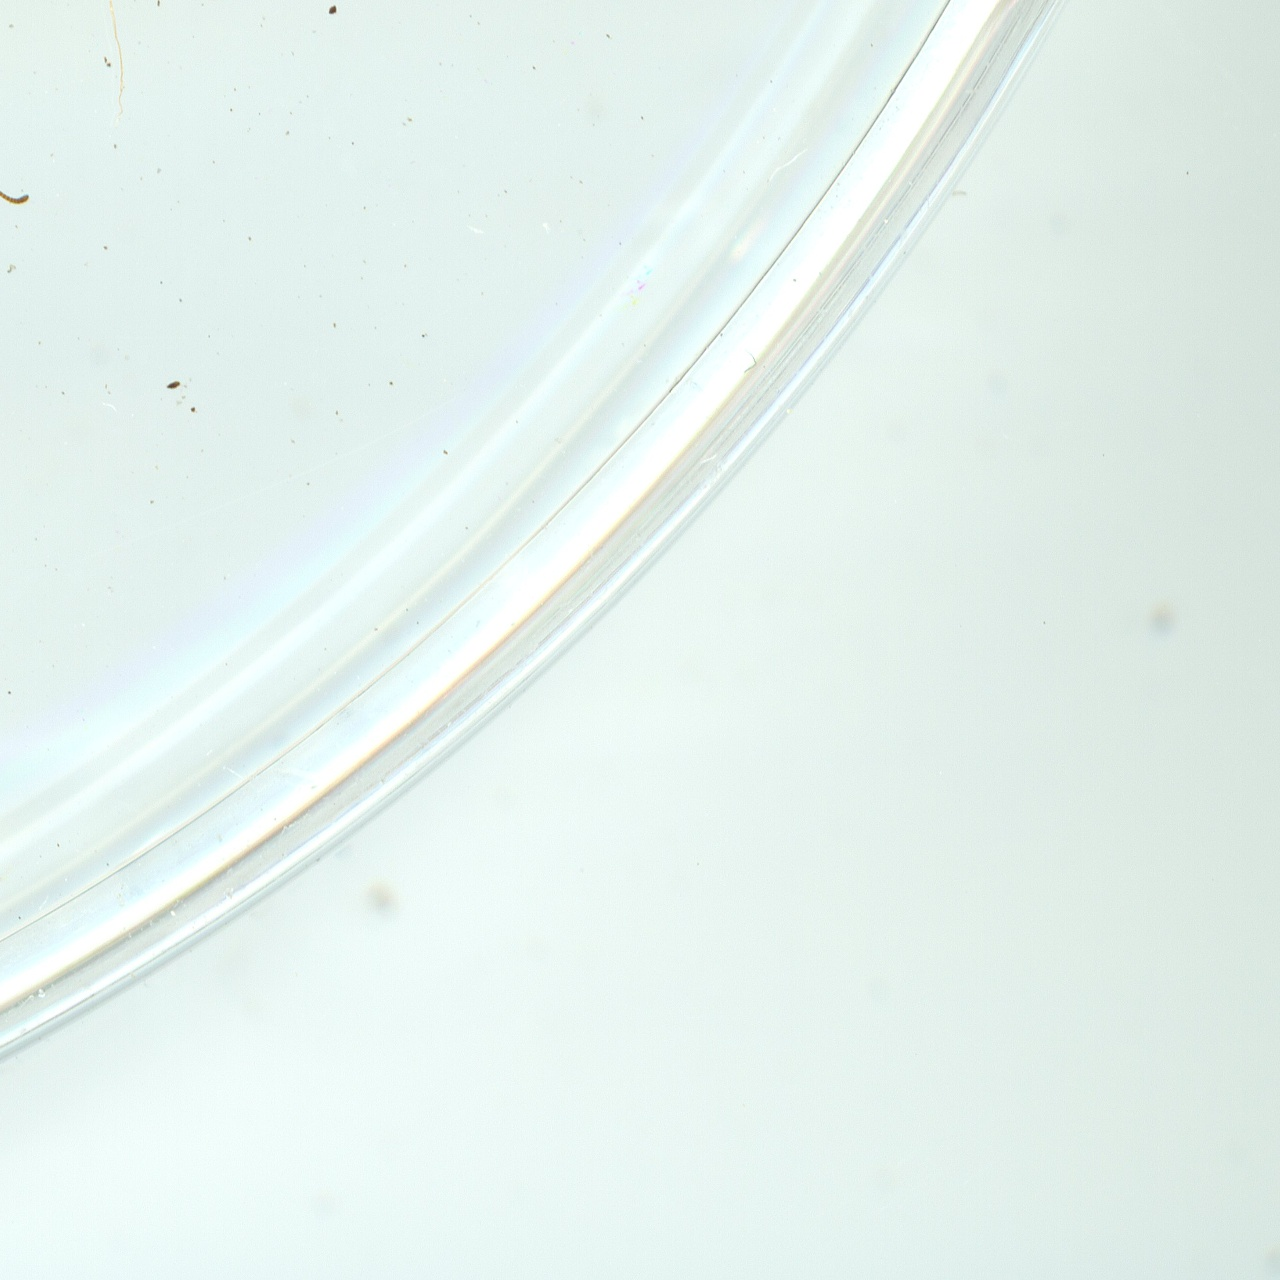arthropod: (0, 64, 36, 304)
